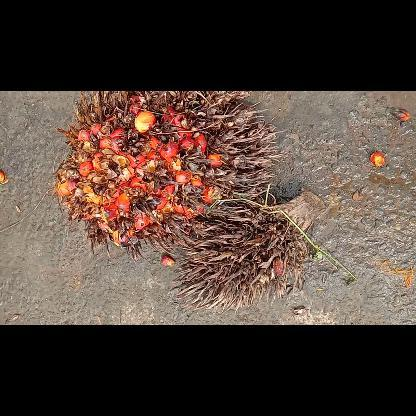Janjang kosong: (168, 189, 326, 313)
Terlalu masak: (51, 90, 283, 262)
